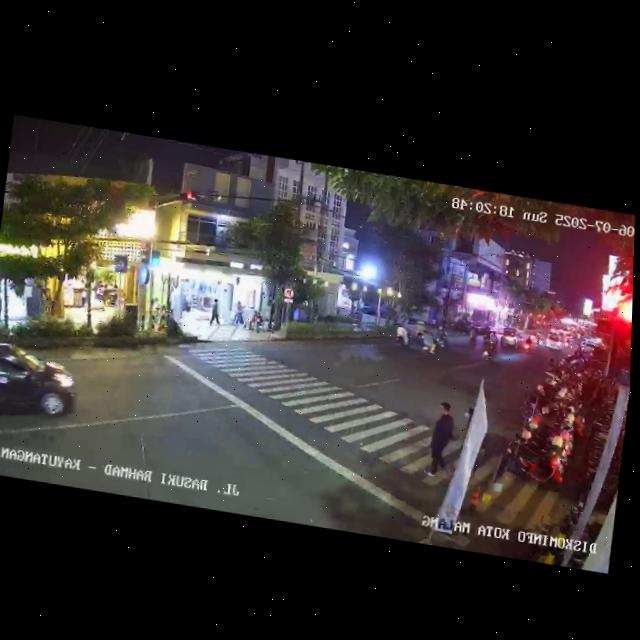car: (0, 338, 82, 437), (498, 326, 525, 352), (545, 333, 564, 352), (528, 331, 543, 347)
motorcycle: (394, 323, 413, 352), (420, 328, 439, 356), (480, 338, 496, 365), (434, 325, 450, 349), (413, 319, 428, 341), (466, 325, 479, 347), (487, 330, 499, 352), (521, 334, 533, 354), (480, 325, 491, 344), (563, 337, 570, 348)
person: (421, 399, 461, 484), (207, 296, 225, 330), (241, 309, 256, 333), (235, 298, 246, 324), (231, 303, 241, 326), (255, 310, 264, 335), (0, 287, 4, 322)
